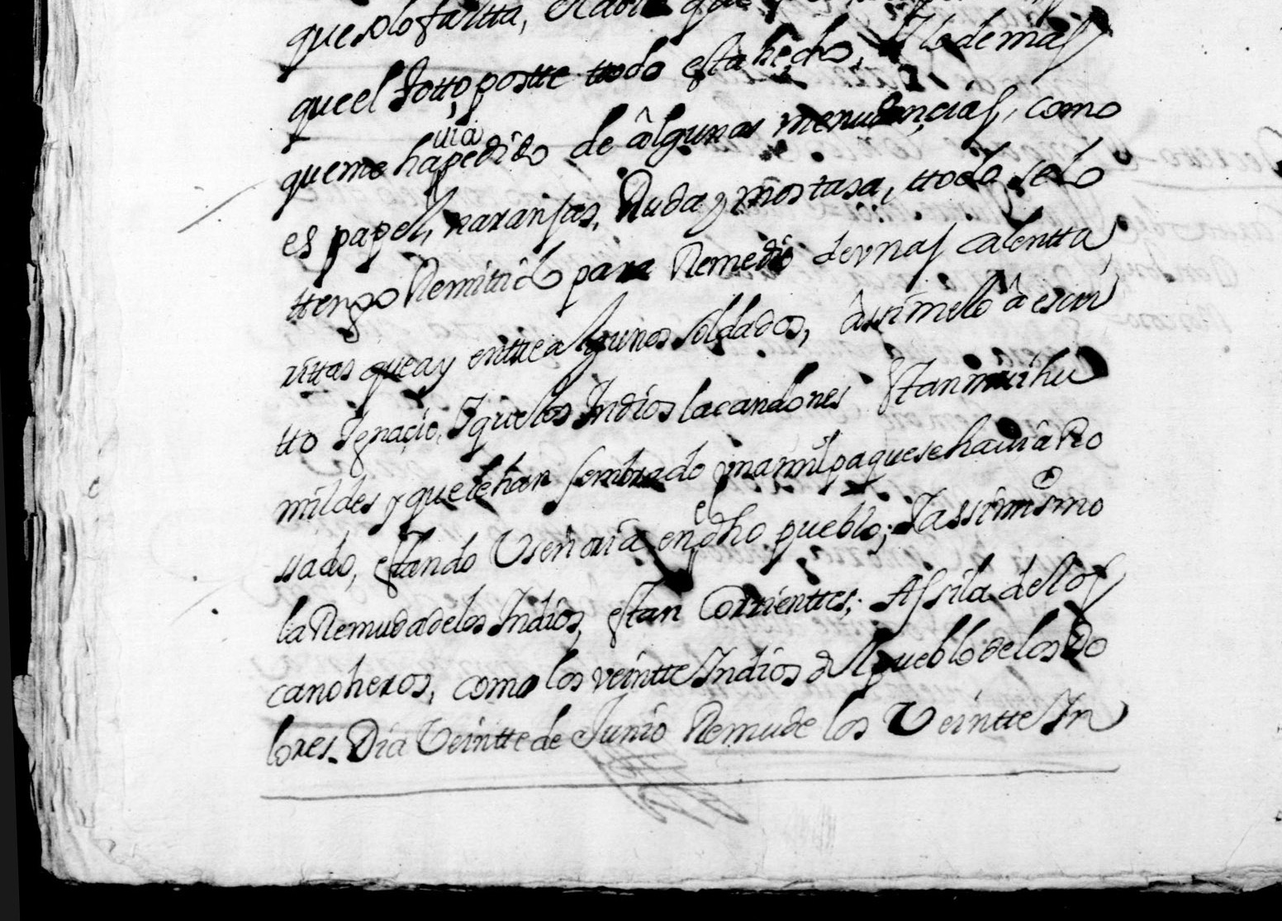lacandon: (677, 361, 851, 423)
